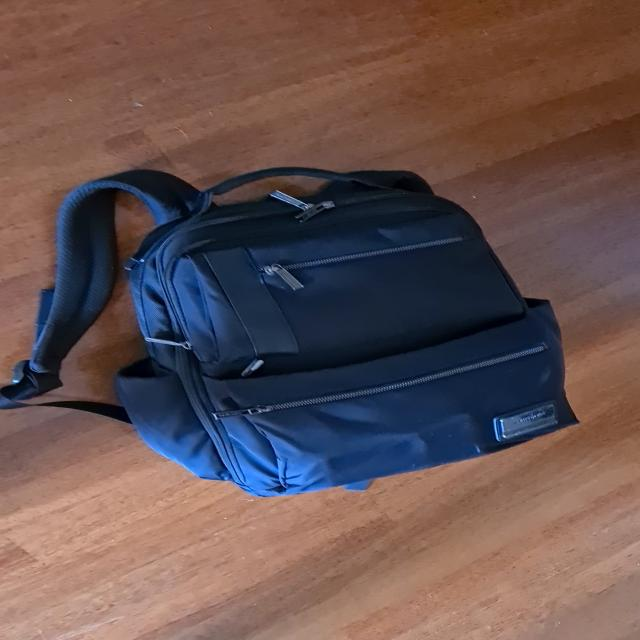backpack: (103, 153, 590, 505)
